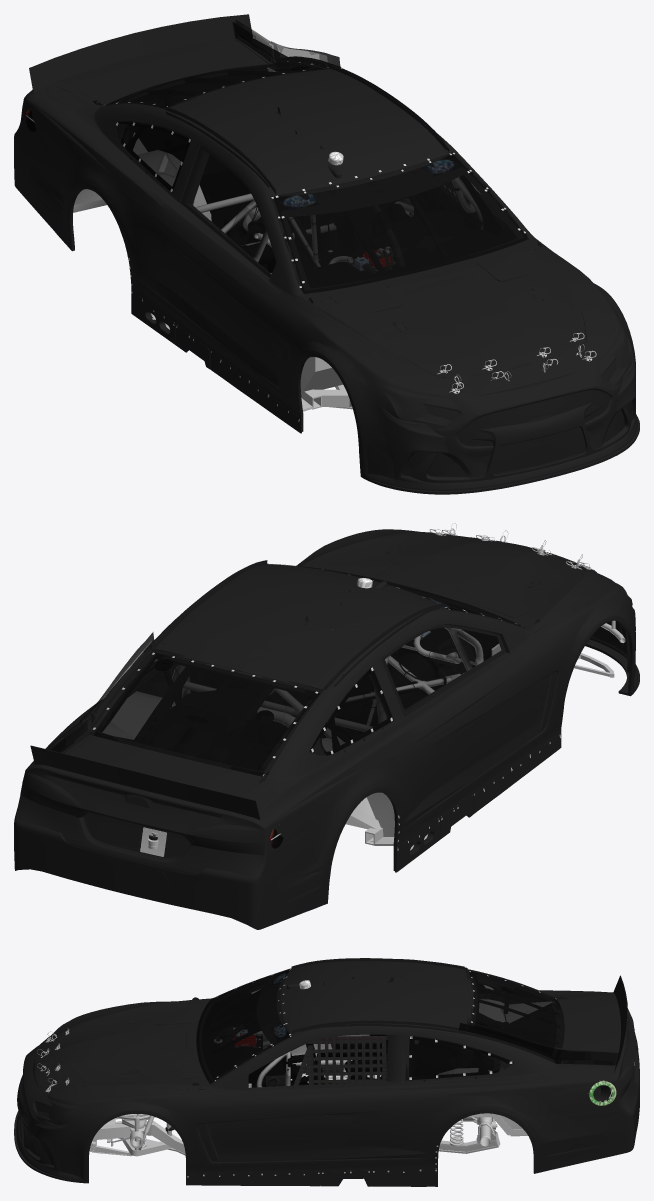
The model's file is N15 Toyota-compressed.glb.
3 views of the same model, one above another, from view 1: azimuth 30°, elevation 25°; view 2: azimuth 150°, elevation 25°; view 3: azimuth 270°, elevation 25° (orthographic). The views are drawn at different scales.
Parts seen in each view (by area): view 1: LOD0_Alt2_DSH_DMG_INSTSMOOTH_SSF_BodyFront001, LOD0_Alt0_DSH_DMG_INSTSMOOTH_SSF_BodyFront001, LOD0_Alt3_DSH_DMG_INSTSMOOTH_SSF_BodyFront001, DMG_LOD0_Alt3_DSH_Bonnet001, LOD0_UPG0_Alt1_InteriorAss, DMG_LOD0_Alt2_DSH_Trunk001, LOD0_DSH_Alt3_DMG_RWing_00001, DMG_LOD0_Alt2_DSH_Bonnet001, DMG_LOD0_Alt3__DSH_WinSurround001, DMG_LOD0_Alt0_DSH_Bonnet001, LOD0_ChasisAss, DMG_LOD0_Alt2__DSH_WinSurround001 (+7 smaller); view 2: LOD0_Alt2_DSH_DMG_INSTSMOOTH_SSF_BodyFront001, LOD0_Alt0_DSH_DMG_INSTSMOOTH_SSF_BodyFront001, LOD0_Alt3_DSH_DMG_INSTSMOOTH_SSF_BodyFront001, LOD0_UPG0_Alt1_InteriorAss, DMG_LOD0_Alt3_DSH_Bonnet001, DMG_LOD0_Alt2_DSH_Trunk001, LOD0_DSH_Alt2_DMG_RWing_00, LOD0_ChasisAss, DMG_LOD0_Alt2_DSH_Bonnet001, LOD0_Alt1_Rollcage, DMG_LOD0_Alt2_AV_DSH_RoofFlapR001, DMG_LOD0_Alt0_DSH_Bonnet001 (+8 smaller); view 3: LOD0_Alt2_DSH_DMG_INSTSMOOTH_SSF_BodyFront001, LOD0_Alt0_DSH_DMG_INSTSMOOTH_SSF_BodyFront001, LOD0_Alt3_DSH_DMG_INSTSMOOTH_SSF_BodyFront001, LOD0_UPG0_Alt1_InteriorAss, DMG_LOD0_Alt3_DSH_Bonnet001, LOD0_ChasisAss, DMG_LOD0_Alt2_DSH_Trunk001, LOD0_ALT0_win001, DMG_LOD0_Alt2_DSH_Bonnet001, DMG_LOD0_Alt0_DSH_Bonnet001, DMG_LOD0_Alt2__DSH_WinSurround001, DMG_LOD0_Alt3__DSH_WinSurround001 (+8 smaller).
Part boxes in pixels (box(x1,y1,x2,y2)): LOD0_Alt2_DSH_DMG_INSTSMOOTH_SSF_BodyFront001: box(14, 20, 633, 482); LOD0_Alt0_DSH_DMG_INSTSMOOTH_SSF_BodyFront001: box(14, 20, 637, 490); LOD0_Alt3_DSH_DMG_INSTSMOOTH_SSF_BodyFront001: box(31, 22, 631, 483); DMG_LOD0_Alt3_DSH_Bonnet001: box(296, 239, 589, 382); LOD0_UPG0_Alt1_InteriorAss: box(122, 68, 509, 281); DMG_LOD0_Alt2_DSH_Trunk001: box(63, 38, 272, 106); LOD0_DSH_Alt3_DMG_RWing_00001: box(29, 15, 611, 492); DMG_LOD0_Alt2_DSH_Bonnet001: box(308, 242, 599, 398); DMG_LOD0_Alt3__DSH_WinSurround001: box(111, 63, 527, 290); DMG_LOD0_Alt0_DSH_Bonnet001: box(321, 248, 585, 377); LOD0_ChasisAss: box(73, 68, 409, 409); DMG_LOD0_Alt2__DSH_WinSurround001: box(105, 68, 526, 293); LOD0_Alt2_DSH_DMG_INSTSMOOTH_SSF_BodyFront001: box(14, 533, 635, 927); LOD0_Alt0_DSH_DMG_INSTSMOOTH_SSF_BodyFront001: box(14, 529, 637, 929); LOD0_Alt3_DSH_DMG_INSTSMOOTH_SSF_BodyFront001: box(45, 560, 635, 878); LOD0_UPG0_Alt1_InteriorAss: box(122, 627, 498, 769); DMG_LOD0_Alt3_DSH_Bonnet001: box(299, 533, 588, 632); DMG_LOD0_Alt2_DSH_Trunk001: box(45, 735, 262, 817); LOD0_DSH_Alt2_DMG_RWing_00: box(31, 680, 639, 819); LOD0_ChasisAss: box(102, 644, 501, 850); DMG_LOD0_Alt2_DSH_Bonnet001: box(301, 537, 594, 623); LOD0_Alt1_Rollcage: box(172, 627, 483, 741); DMG_LOD0_Alt2_AV_DSH_RoofFlapR001: box(267, 625, 393, 661); DMG_LOD0_Alt0_DSH_Bonnet001: box(313, 532, 584, 618); LOD0_Alt2_DSH_DMG_INSTSMOOTH_SSF_BodyFront001: box(19, 958, 639, 1181); LOD0_Alt0_DSH_DMG_INSTSMOOTH_SSF_BodyFront001: box(16, 958, 639, 1186); LOD0_Alt3_DSH_DMG_INSTSMOOTH_SSF_BodyFront001: box(17, 970, 620, 1185); LOD0_UPG0_Alt1_InteriorAss: box(209, 986, 559, 1089); DMG_LOD0_Alt3_DSH_Bonnet001: box(49, 1001, 210, 1091); LOD0_ChasisAss: box(89, 999, 553, 1156); DMG_LOD0_Alt2_DSH_Trunk001: box(557, 999, 626, 1067); LOD0_ALT0_win001: box(293, 1035, 388, 1085); DMG_LOD0_Alt2_DSH_Bonnet001: box(44, 997, 196, 1097); DMG_LOD0_Alt0_DSH_Bonnet001: box(50, 1003, 193, 1086); DMG_LOD0_Alt2__DSH_WinSurround001: box(196, 970, 560, 1082); DMG_LOD0_Alt3__DSH_WinSurround001: box(200, 975, 563, 1081).
Bounding box in the file's own units: 1.83 × 1.26 × 4.67.
15 materials, 6 textured.
